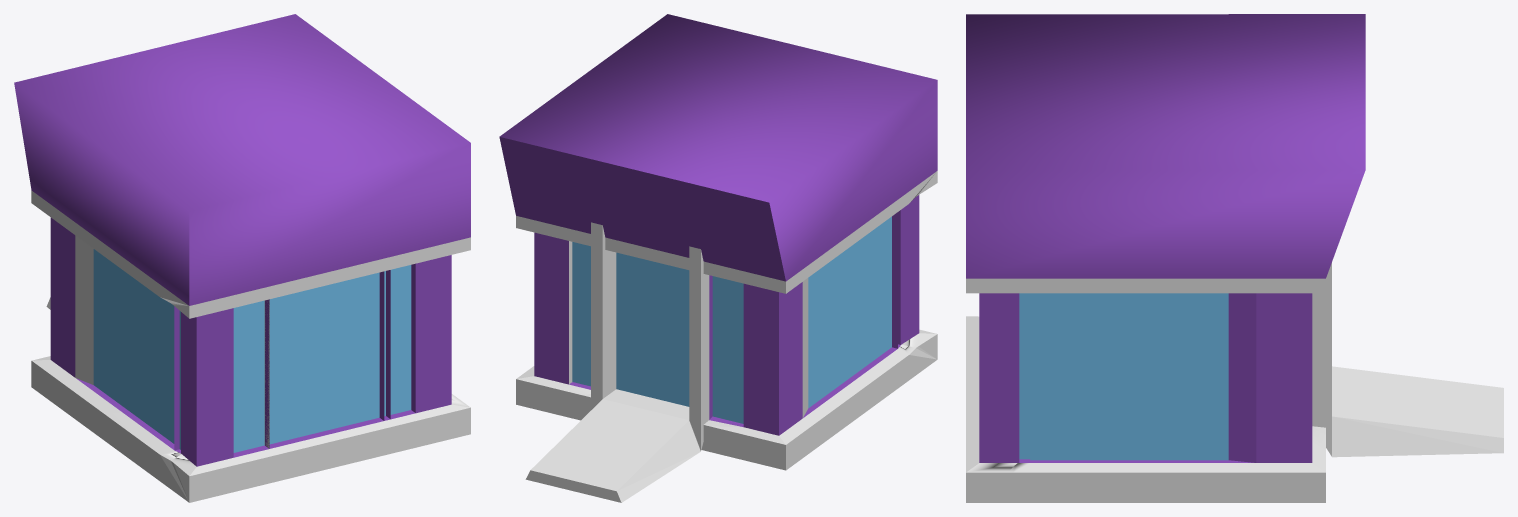
File: Shop2x2x2Purple.fbx
3 views of the same model, side by side, from view 1: azimuth 30°, elevation 25°; view 2: azimuth 150°, elevation 25°; view 3: azimuth 270°, elevation 25° (orthographic). The views are drawn at different scales.
Visible parts, largest first — view 1: Shop.001; view 2: Shop.001; view 3: Shop.001.
Part boxes in pixels (left/top/right/bottom): Shop.001: left=14, top=14, right=470, bottom=502; Shop.001: left=499, top=14, right=937, bottom=502; Shop.001: left=966, top=14, right=1503, bottom=502.
Size of the model in its own units: 2 by 1.98 by 2.91.
1 material, 1 textured.
